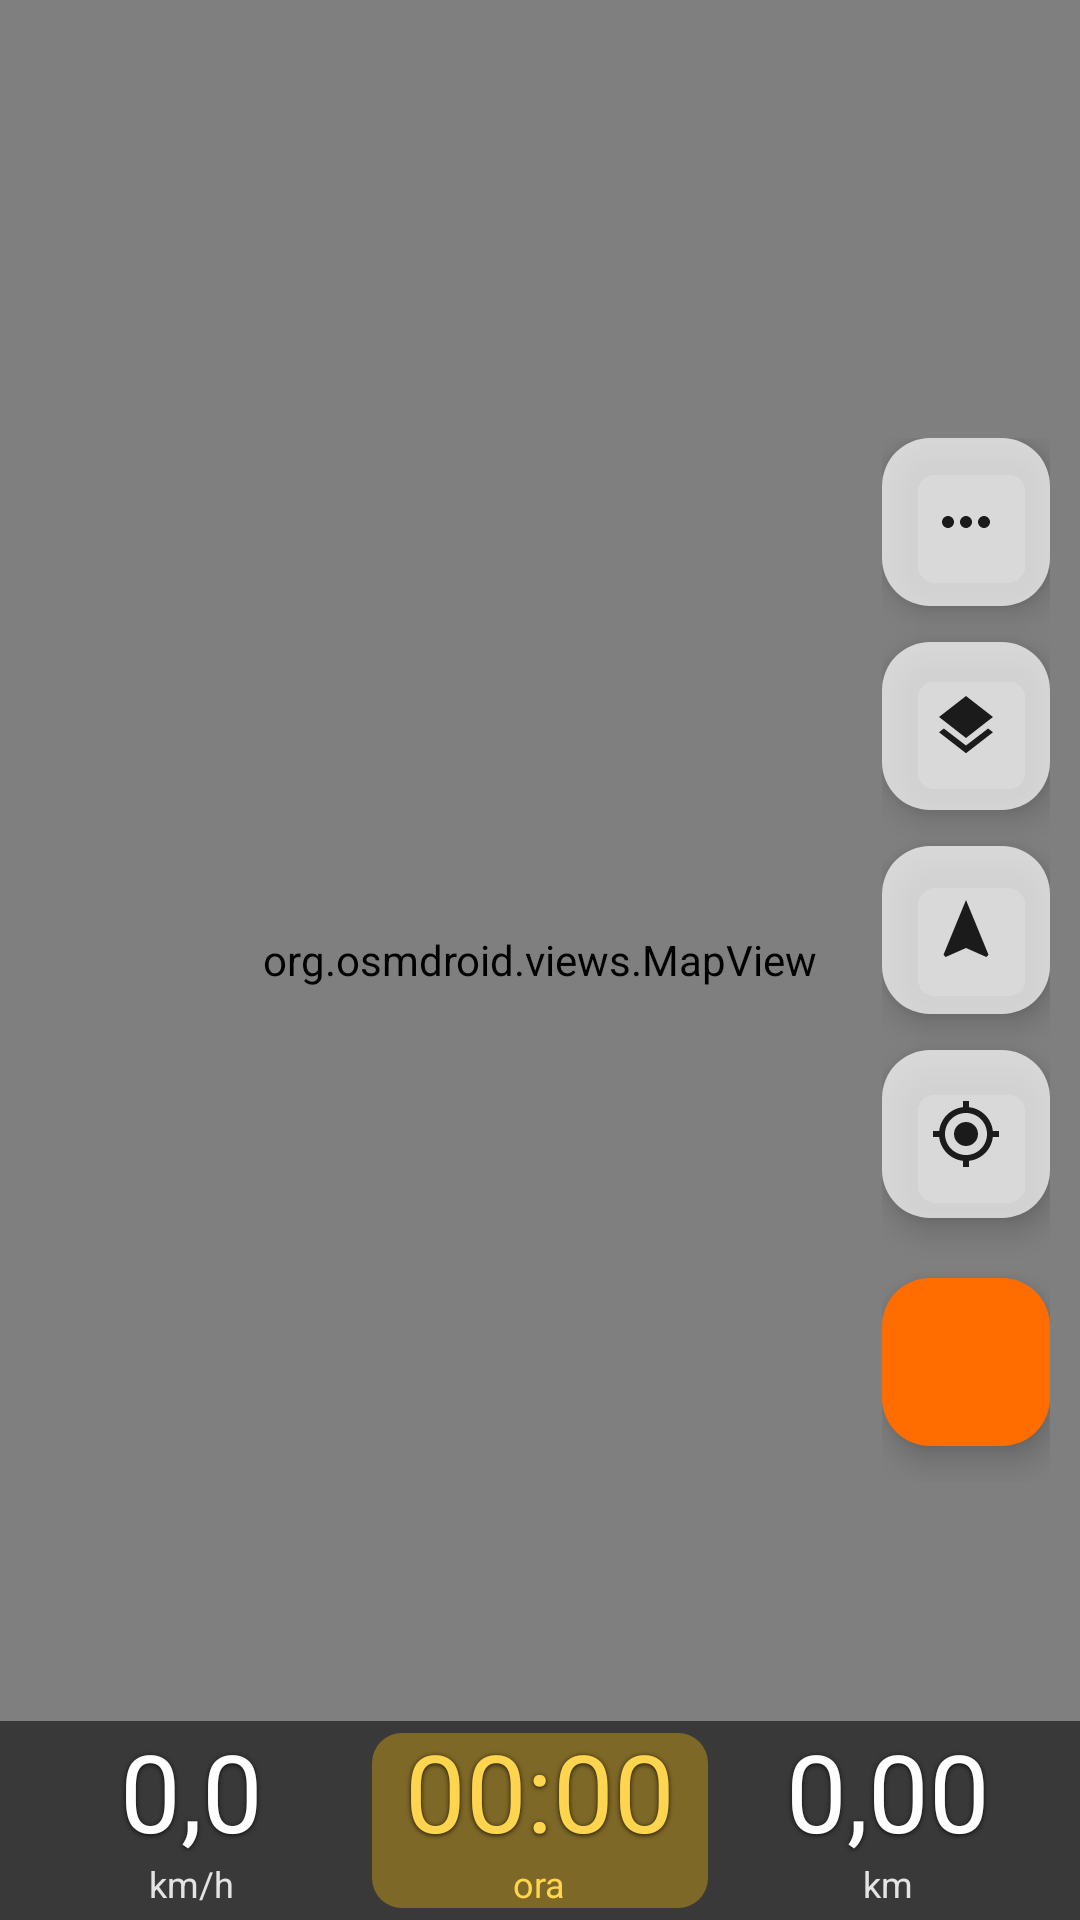

Where to tap for icons on this 1080 × 1920 app screen, as (x,y):
Centra sulla mia posizione: (966,1134)
more: (966,522)
Orientamento mappa: (966,930)
Scegli la mappa: (966,726)
